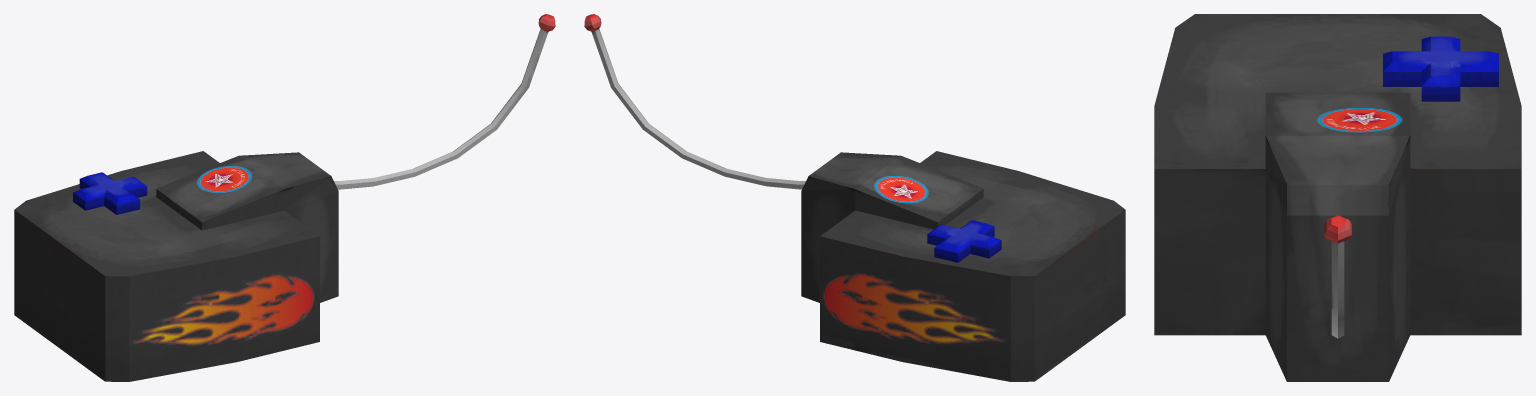
The model's file is Fernbedienung_01_TL.FBX.
3 renders of one model, left to right at view 1: azimuth 30°, elevation 25°; view 2: azimuth 150°, elevation 25°; view 3: azimuth 270°, elevation 25°, orthographic. The views are drawn at different scales.
Visible parts, largest first — view 1: Fernsteuerung; view 2: Fernsteuerung; view 3: Fernsteuerung.
Part boxes in pixels (<box>): Fernsteuerung: <box>14,14,555,381</box>; Fernsteuerung: <box>584,14,1125,381</box>; Fernsteuerung: <box>1154,14,1521,381</box>.
Bounding box in the file's own units: 24.54 × 10.16 × 10.
